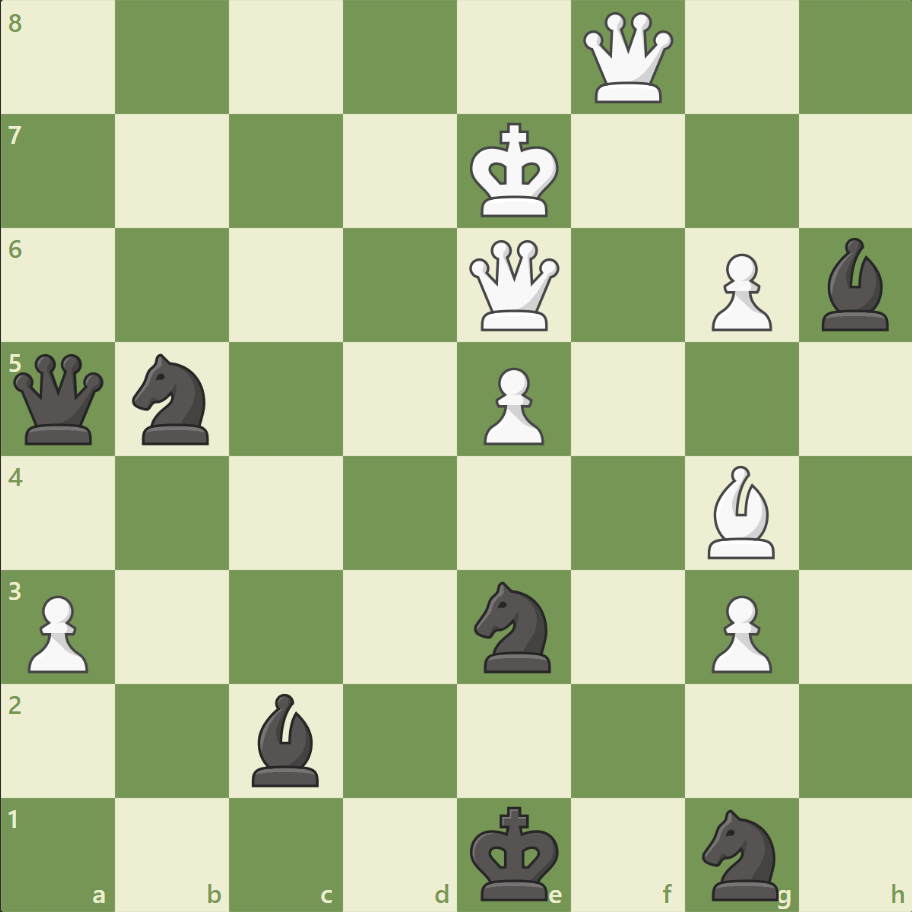B: (698, 460, 782, 563)
K: (465, 117, 565, 225)
P: (701, 246, 776, 337), (474, 359, 549, 450), (20, 586, 95, 677), (701, 586, 776, 677)
Q: (578, 9, 677, 108), (464, 236, 563, 335)
b: (812, 233, 896, 336), (244, 687, 328, 790)
k: (465, 798, 565, 906)
n: (124, 348, 222, 450), (465, 575, 562, 677), (692, 802, 789, 904)
q: (10, 349, 109, 449)
